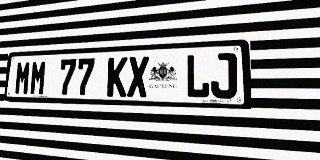7: (75, 58, 95, 96), (58, 59, 77, 96)
J: (211, 53, 237, 99)
K: (107, 57, 128, 97)
L: (185, 54, 210, 98)
M: (29, 60, 47, 95), (14, 61, 31, 95)
X: (127, 56, 149, 97)
